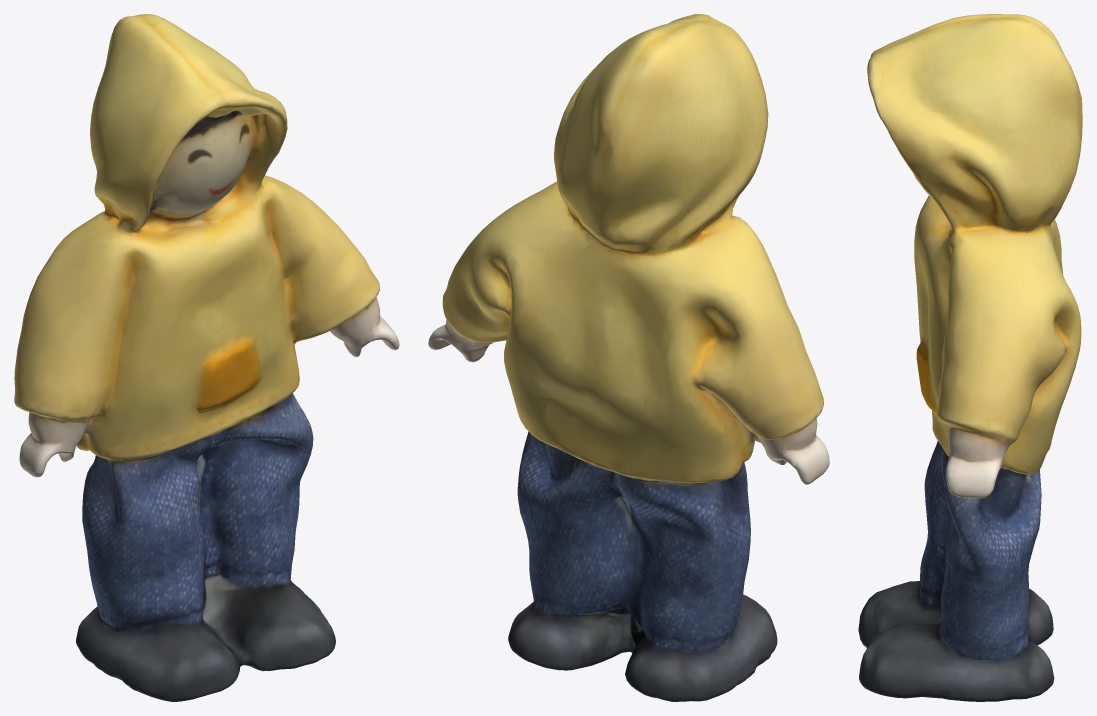
Rendered from 3D_Dollhouse_Happy_Brother.glb.
3 renders of one model, left to right at view 1: azimuth 30°, elevation 25°; view 2: azimuth 150°, elevation 25°; view 3: azimuth 270°, elevation 25°, orthographic. The views are drawn at different scales.
Parts seen in each view (by area): view 1: 3D_Dollhouse_Happy_Brother; view 2: 3D_Dollhouse_Happy_Brother; view 3: 3D_Dollhouse_Happy_Brother.
Part boxes in pixels (bbox=[...]): 3D_Dollhouse_Happy_Brother: bbox=[14, 14, 399, 701]; 3D_Dollhouse_Happy_Brother: bbox=[428, 14, 829, 701]; 3D_Dollhouse_Happy_Brother: bbox=[858, 14, 1082, 701].
Bounding box in the file's own units: 0.0594 × 0.0955 × 0.0308.
Materials: 1 (1 with a texture image).
